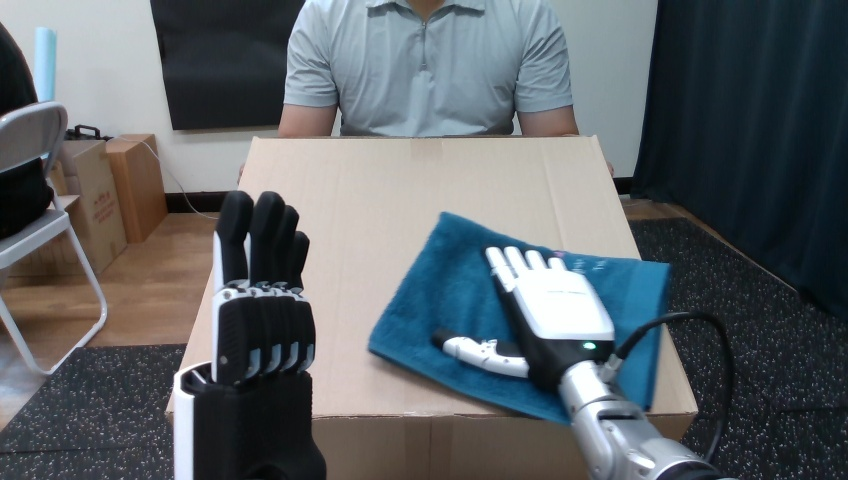left robot hand: (432, 246, 733, 479), (172, 191, 325, 478), (615, 318, 726, 460)
